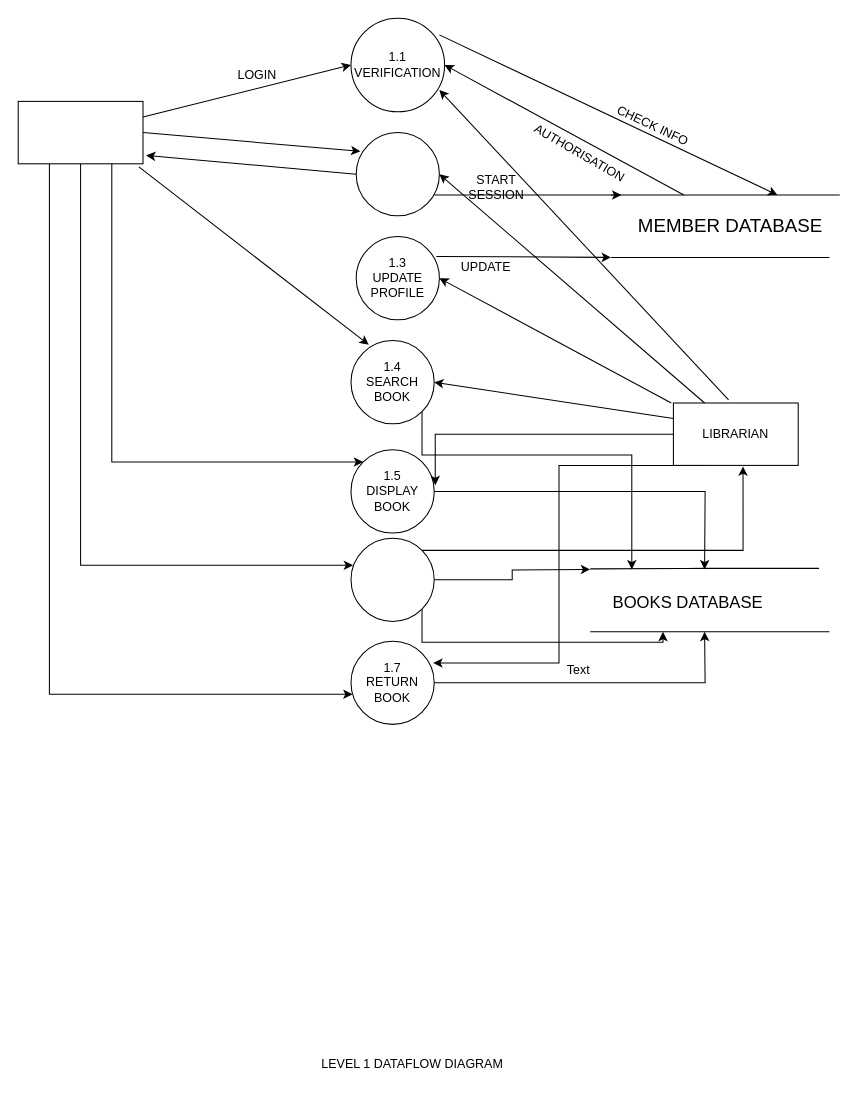
Some shapes in this 859 by 1093 pixel diagram are drawn without their labels. The box of each missing label's shape, as (x1, y1, x2, y2) in pixels:
1.2 VIEW PROFILE: (355, 132, 439, 216)
1.6 BORROW BOOK: (350, 537, 434, 621)
STUDENT: (17, 100, 143, 164)
